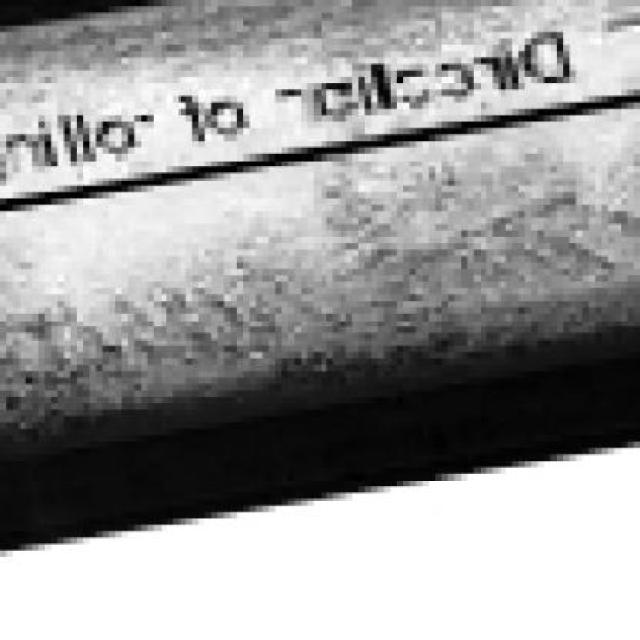defective: (0, 4, 640, 532)
